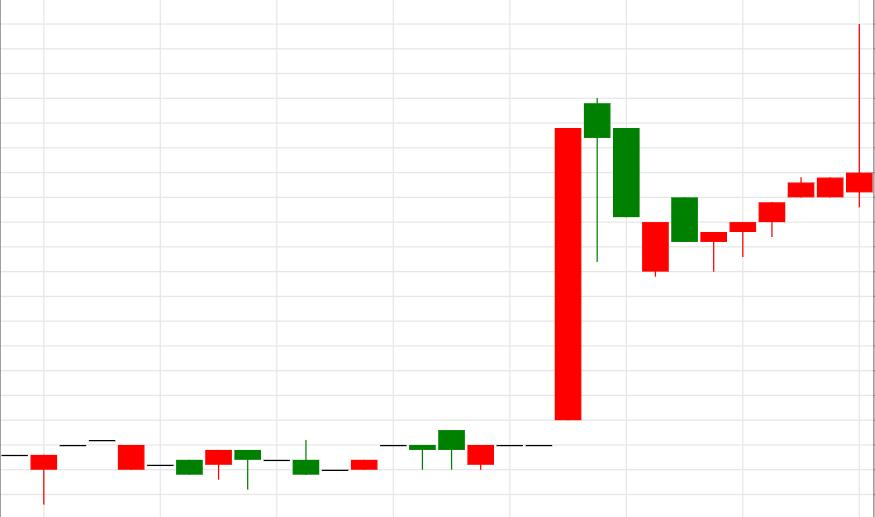hanging_man_fall: (468, 98, 611, 471)
